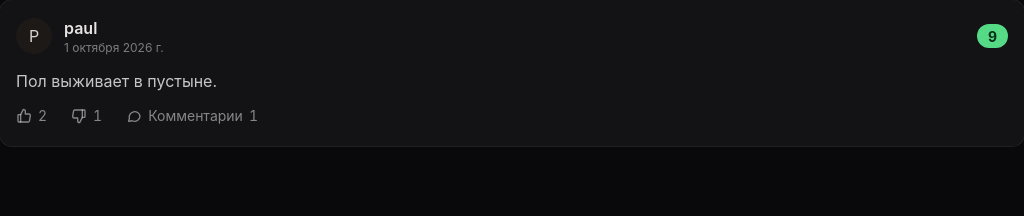
Scenario: ReviewCard › под текстом — лайк, дизлайк с числами и комментарии; комментарии грузятся по клику
expect the button named "Нравится" reads "2": met, box [6, 102, 57, 130]
expect the button named "Не нравится" reads "1": met, box [61, 102, 112, 130]
Click the button "Комментарии 1".
click(192, 116)  # box [116, 102, 268, 130]
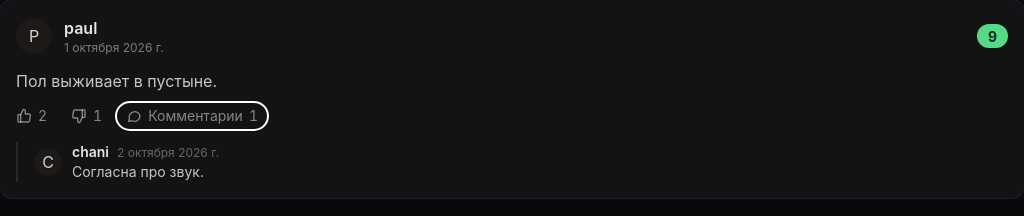
expect the button "Комментарии 1" is expanded: met, box [116, 102, 268, 130]
